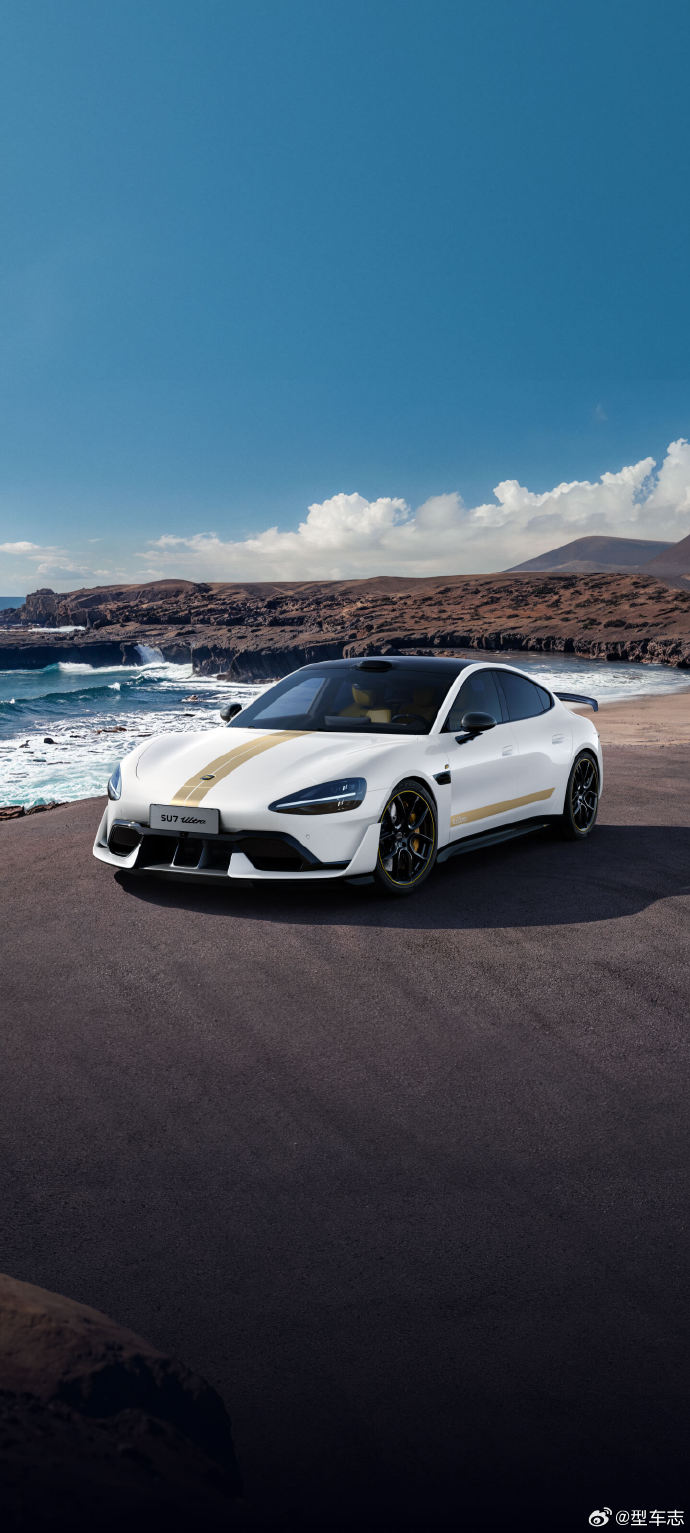su7: (108, 636, 620, 894)
